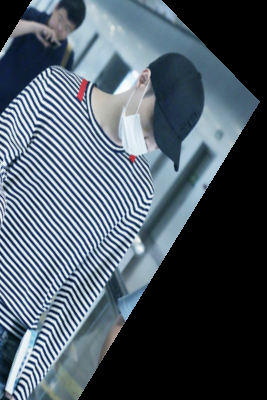mask_weared_incorrect: (113, 47, 210, 189)
